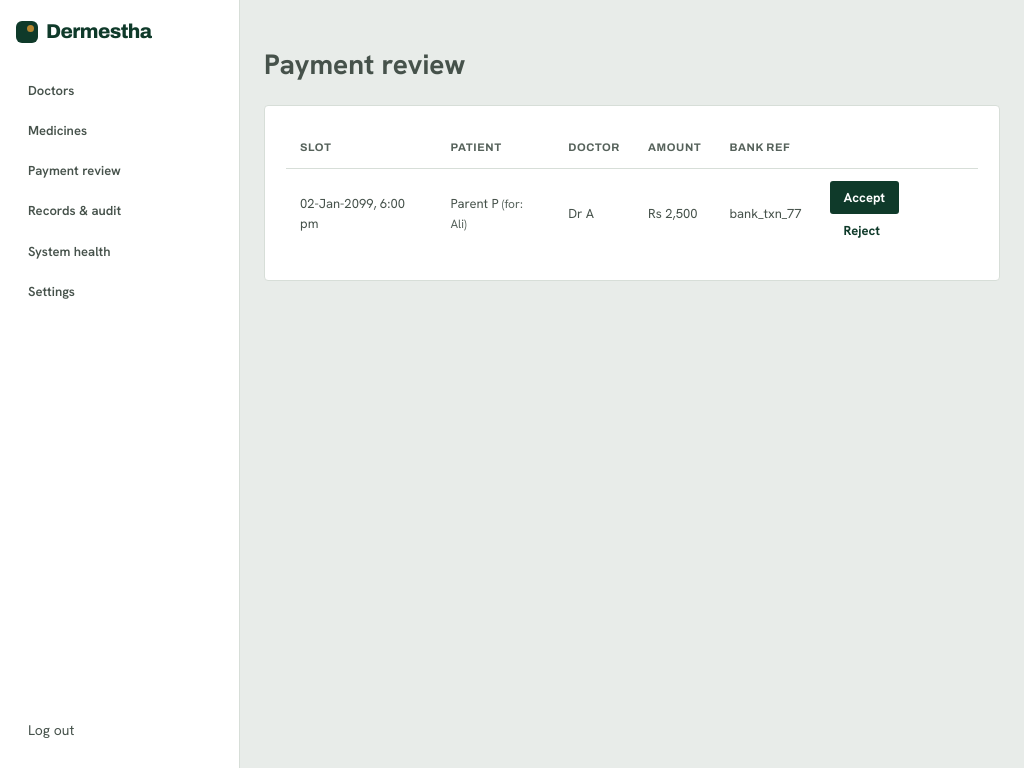
Scenario: AdminReview (A-06) › Accept posts to the accept endpoint and the row drops off after refetch
Check: the text "Parent P" is shown, box [450, 195, 499, 212]
Click the button "Accept".
click(864, 197)  # box [830, 181, 899, 214]
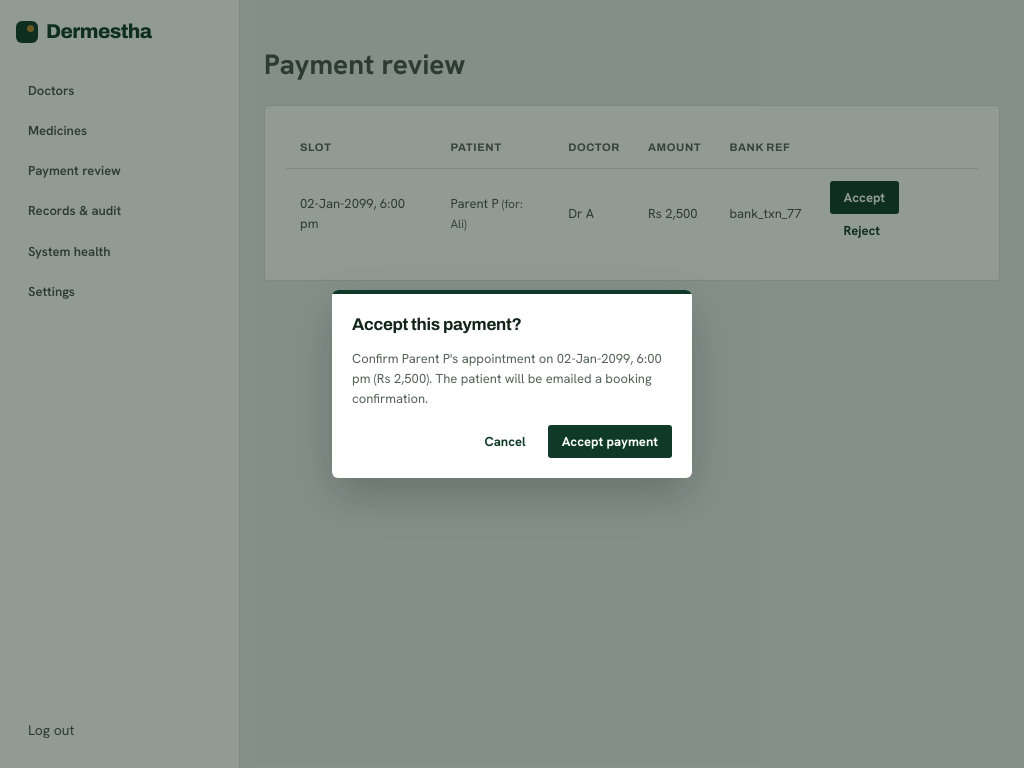
Check: the element with class "modal__accent" is shown, box [332, 290, 692, 294]
Click the button "Accept payment".
click(610, 442)  # box [548, 425, 672, 458]
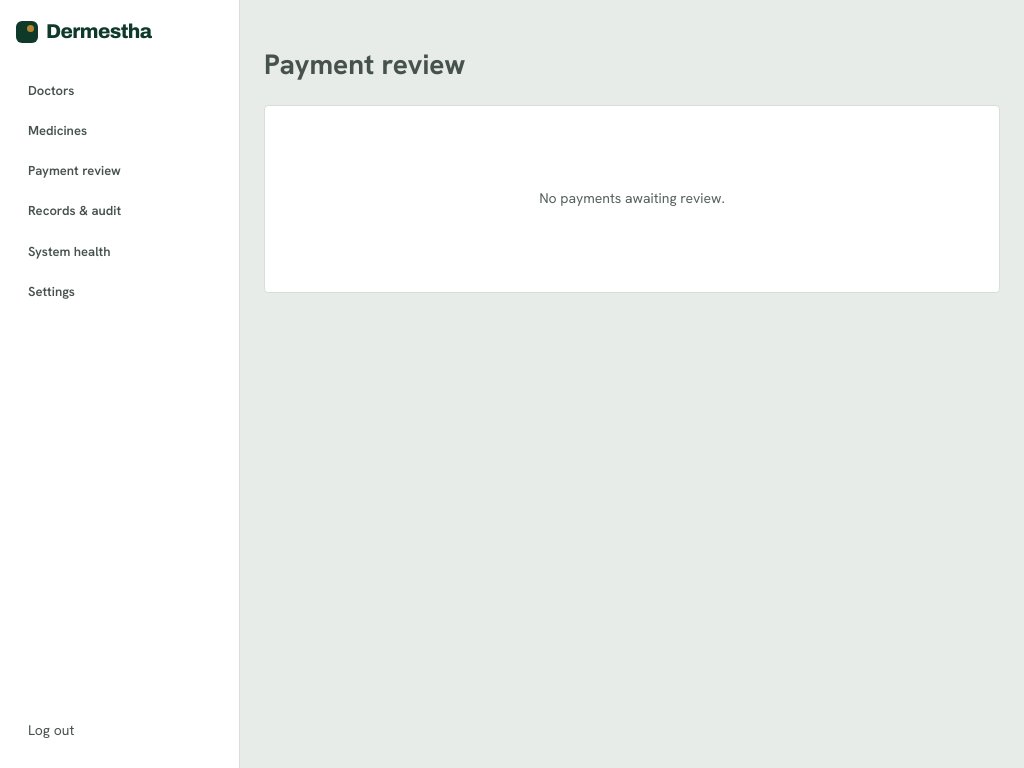
Check: the text "No payments awaiting review." is shown, box [539, 189, 725, 207]
